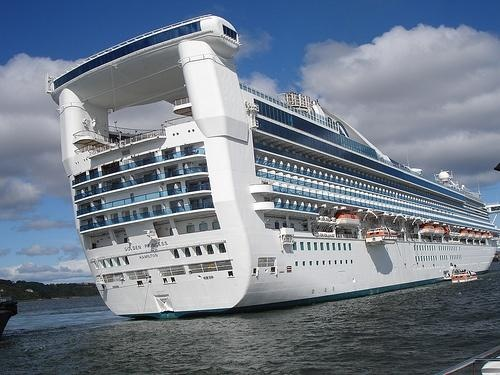boat: (46, 14, 500, 322), (366, 226, 398, 247), (448, 269, 479, 288), (340, 211, 362, 229), (416, 227, 434, 241), (436, 227, 451, 238), (459, 228, 470, 242)
